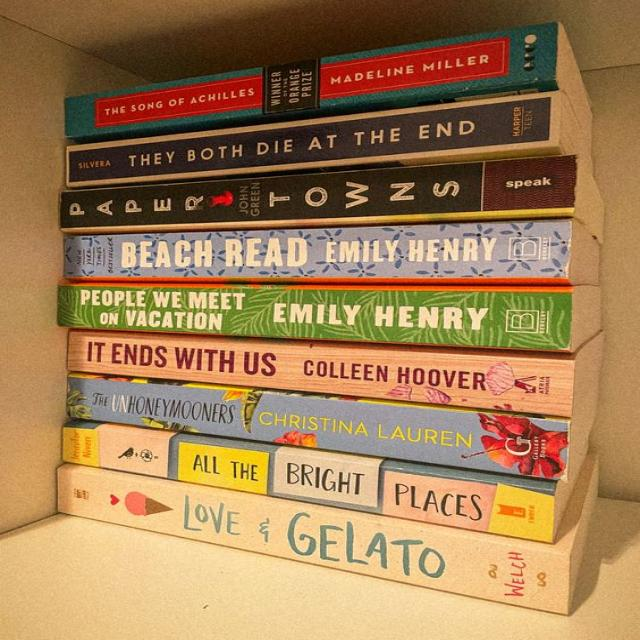book: (61, 466, 573, 612), (62, 422, 554, 542), (66, 22, 559, 139), (68, 375, 567, 479), (66, 92, 578, 186), (68, 330, 598, 417), (60, 154, 583, 231), (58, 284, 572, 350), (64, 220, 571, 283)
